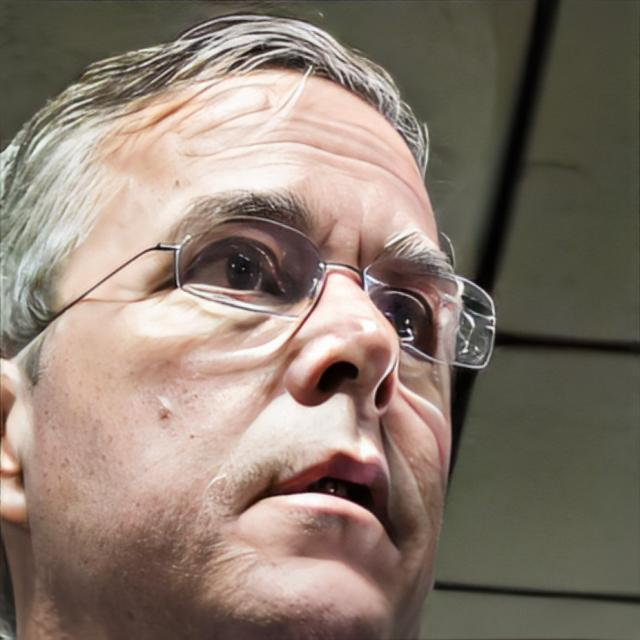fear: (25, 76, 456, 638)
